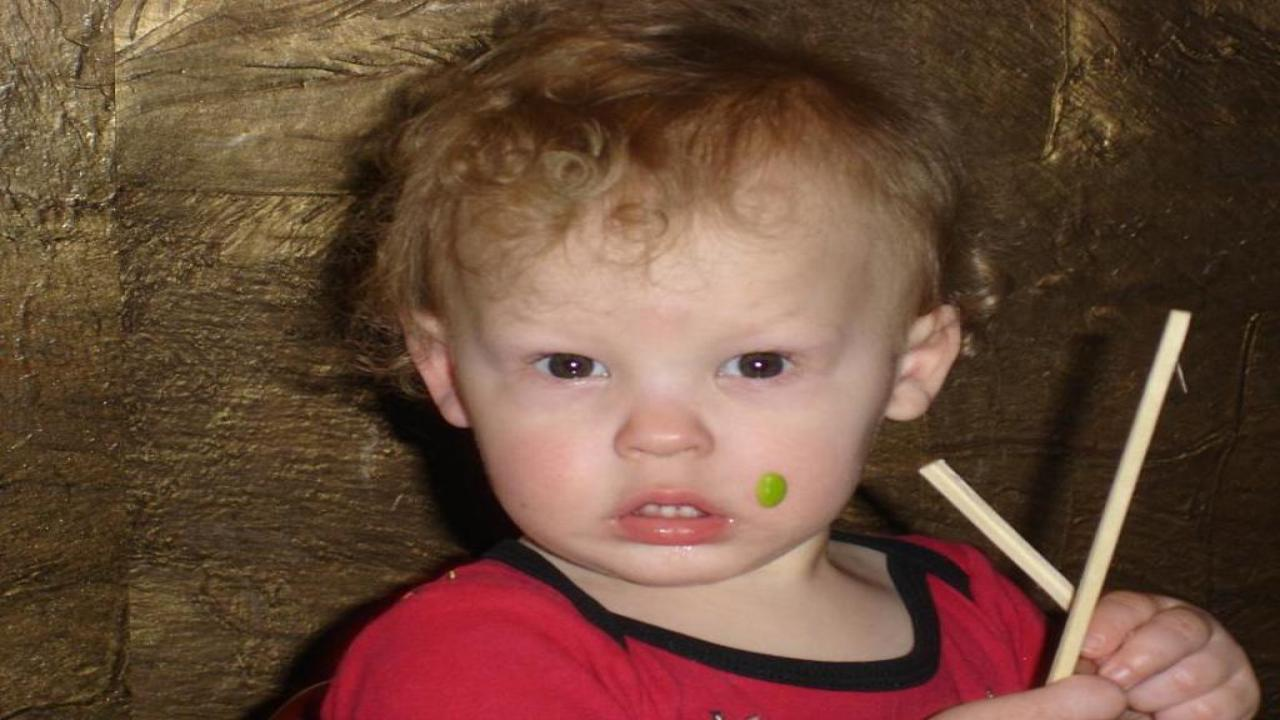chopstick: (1052, 312, 1196, 686), (926, 457, 1074, 604)
